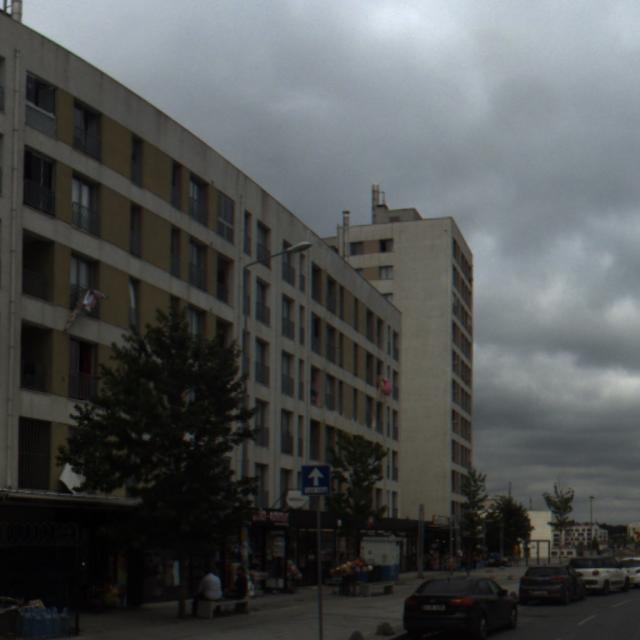SignStore: (251, 507, 291, 528), (432, 515, 450, 527)
